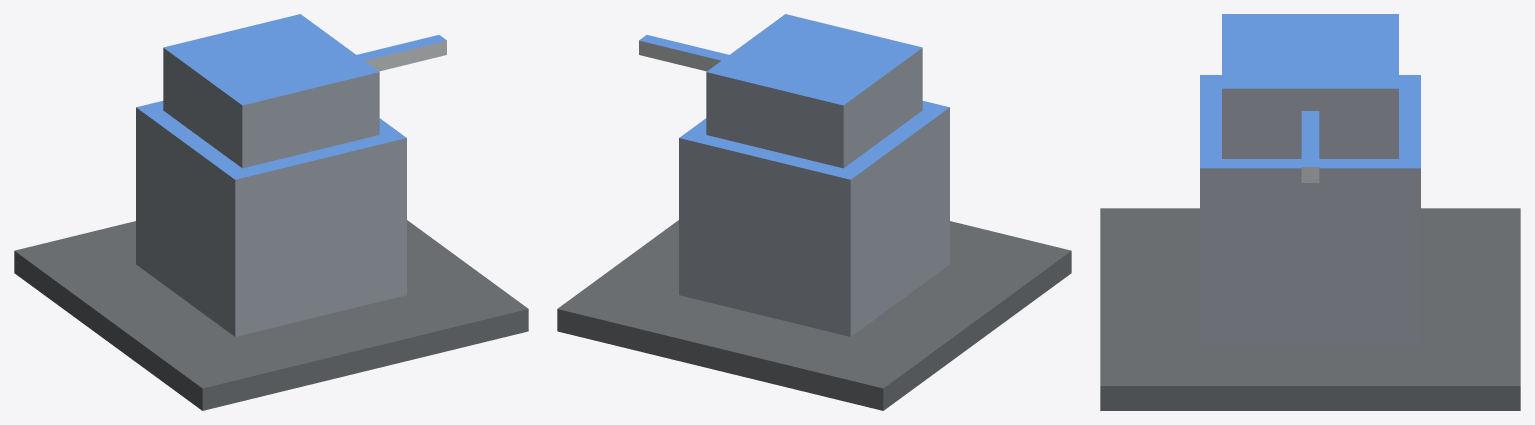
Rendered from veyran_defence_tower.glb.
3 views of the same model, side by side, from view 1: azimuth 30°, elevation 25°; view 2: azimuth 150°, elevation 25°; view 3: azimuth 270°, elevation 25° (orthographic). The views are drawn at different scales.
Parts seen in each view (by area): view 1: hull, turret, barrel; view 2: hull, turret, barrel; view 3: hull, turret, barrel.
Part boxes in pixels (<box>): hull: <box>14,101,528,410</box>; turret: <box>163,14,379,168</box>; barrel: <box>357,35,446,71</box>; hull: <box>557,101,1071,410</box>; turret: <box>706,14,922,168</box>; barrel: <box>639,35,728,71</box>; hull: <box>1100,75,1520,410</box>; turret: <box>1222,14,1398,158</box>; barrel: <box>1301,111,1319,182</box>.
Size of the model in its own units: 3.9 by 2.7 by 3.8.
